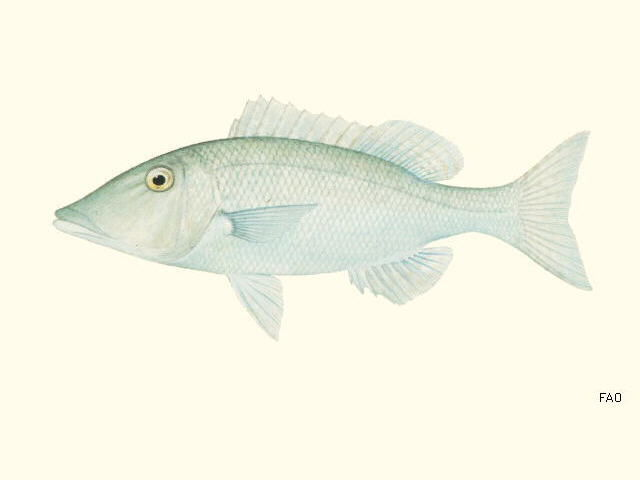fish: (53, 94, 595, 344)
